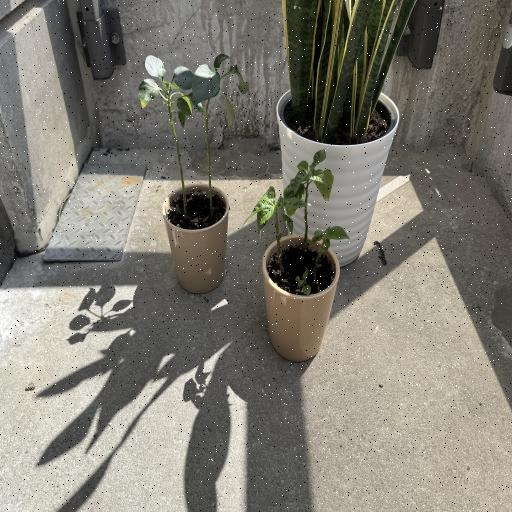Plant Pot: (276, 87, 401, 267), (260, 236, 338, 363), (163, 183, 231, 292)
